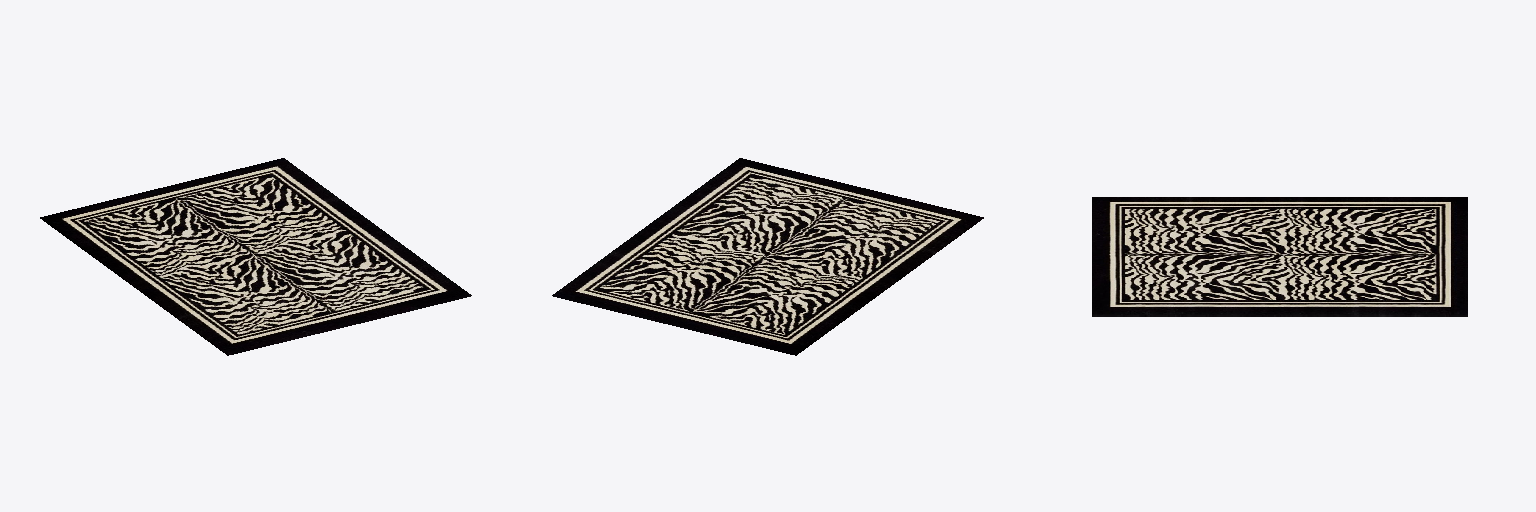
3 renders of one model, left to right at view 1: azimuth 30°, elevation 25°; view 2: azimuth 150°, elevation 25°; view 3: azimuth 270°, elevation 25°, orthographic.
Parts seen in each view (by area): view 1: rug_1; view 2: rug_1; view 3: rug_1.
Part boxes in pixels (x1,y1,x2,y2): rug_1: (40,158,471,355); rug_1: (552,158,983,355); rug_1: (1092,197,1467,316).
Bounding box in the file's own units: 14.93 × 0.1244 × 19.9.
1 materials, 1 textured.